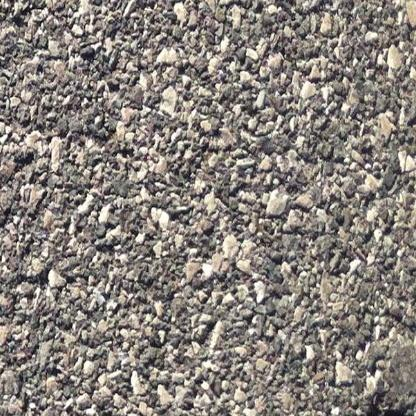Cracks: (354, 391, 416, 416)
